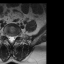CCS_normal: (10, 34, 12, 44)
LFS_normal: (15, 32, 18, 39)
LLS_normal: (12, 33, 15, 42)
RFS_normal: (5, 31, 8, 39)
RLS_normal: (8, 33, 10, 43)
